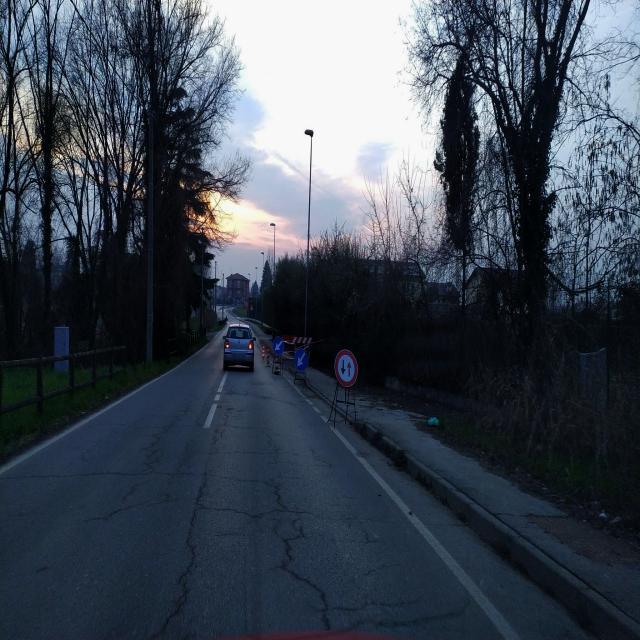bike: (271, 338, 284, 376)
car: (222, 323, 255, 372)
